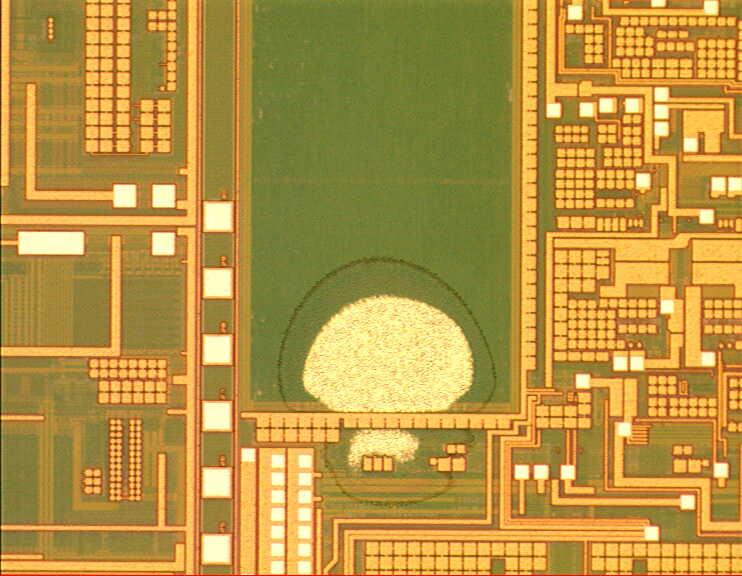BLOCK ETCH: (273, 248, 501, 513)
